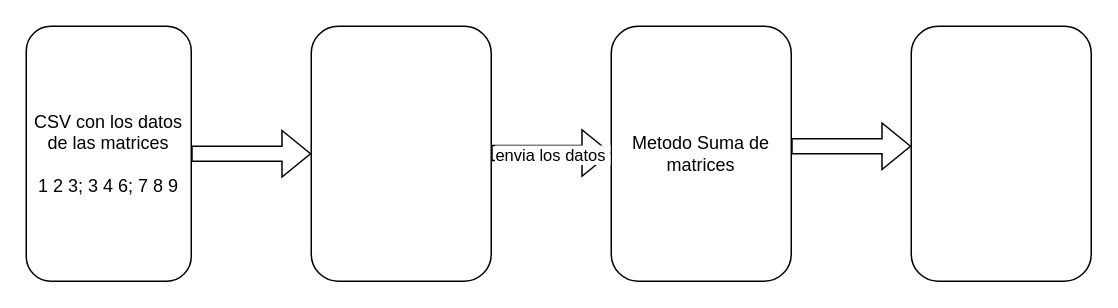
The diagram is 1118 pixels wide and 308 high, and some of its shapes have lost their labels. Each missing label, with the centre of its shape:
Método getMatrices(): point (400, 153)
Resultado visto en HTML: point (1000, 153)
